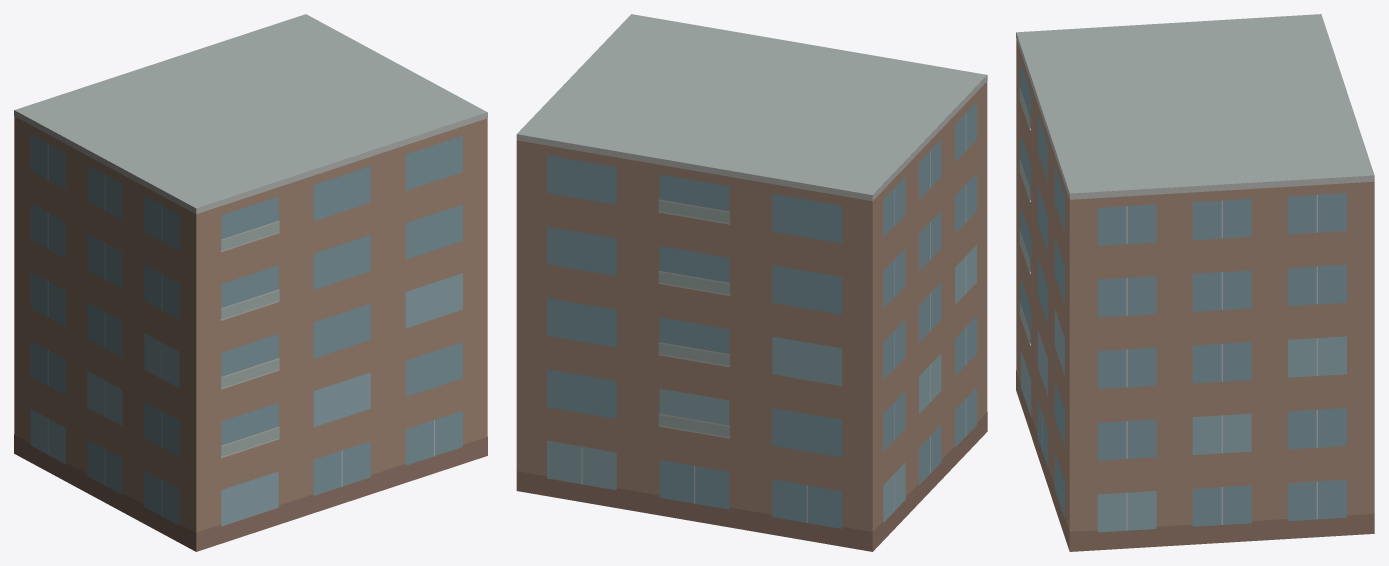
File: survey-upis-32711384.glb
3 views of the same model, side by side, from view 1: azimuth 30°, elevation 25°; view 2: azimuth 150°, elevation 25°; view 3: azimuth 270°, elevation 25° (orthographic). The views are drawn at different scales.
Visible parts, largest first — view 1: survey-upis-32711384.tmp; view 2: survey-upis-32711384.tmp; view 3: survey-upis-32711384.tmp.
Boxes of the visible parts, left/top/right/bottom form: survey-upis-32711384.tmp: left=14, top=14, right=487, bottom=551; survey-upis-32711384.tmp: left=516, top=14, right=987, bottom=551; survey-upis-32711384.tmp: left=1016, top=14, right=1374, bottom=551.
Size of the model in its own units: 15.28 by 14.2 by 12.88.
